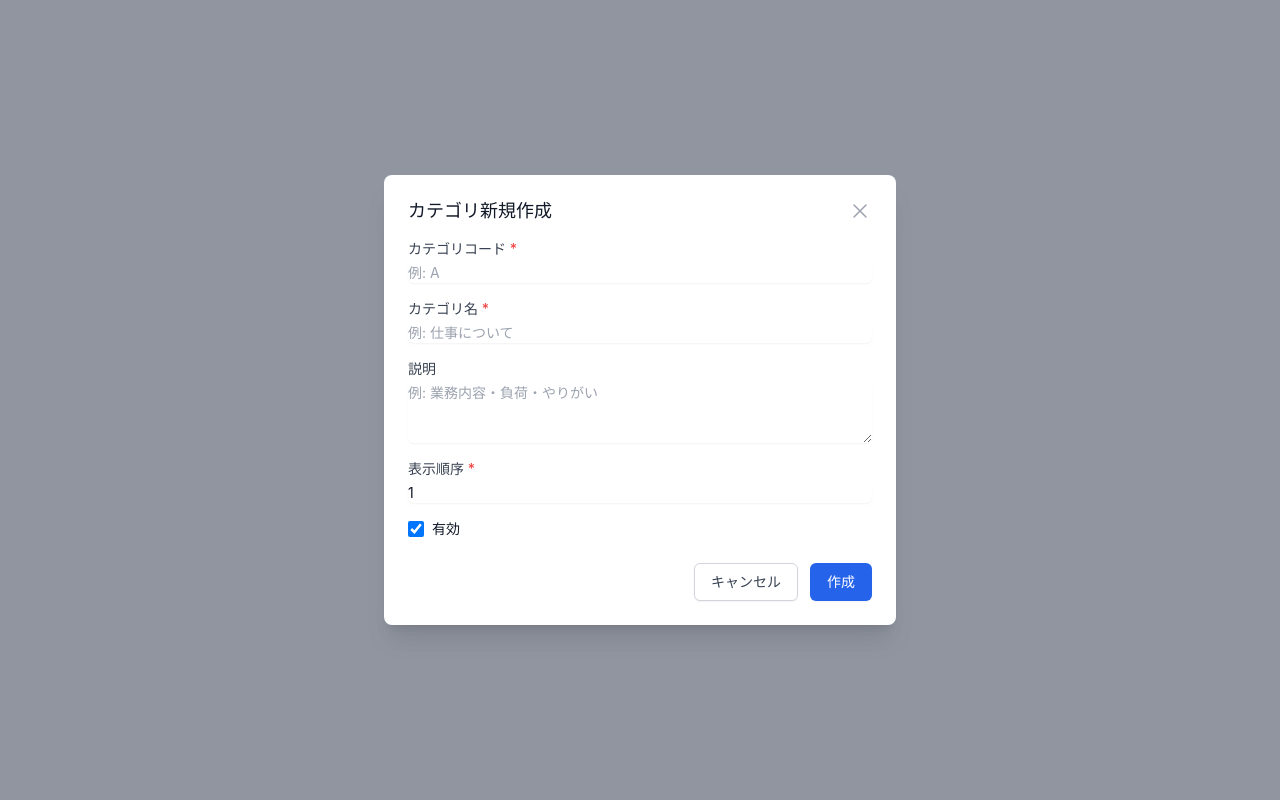
Test: CategoryFormModal › バリデーション › カテゴリコードが4文字以上の場合、エラーメッセージを表示する
The image size is (1280, 800).
In the field labelled "カテゴリコード *": (640, 273) [408, 263, 872, 283], type "ABCD"
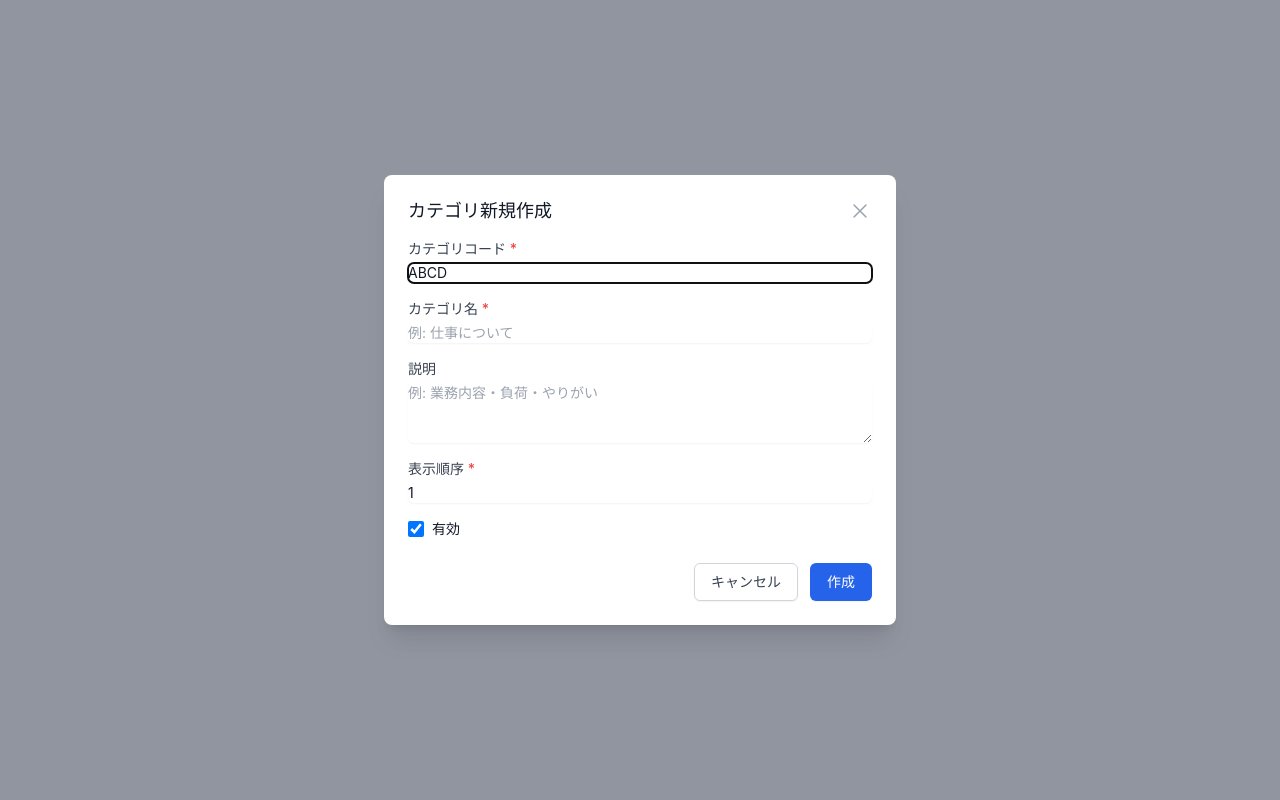
Click the button "作成": (841, 582) [810, 563, 872, 601]
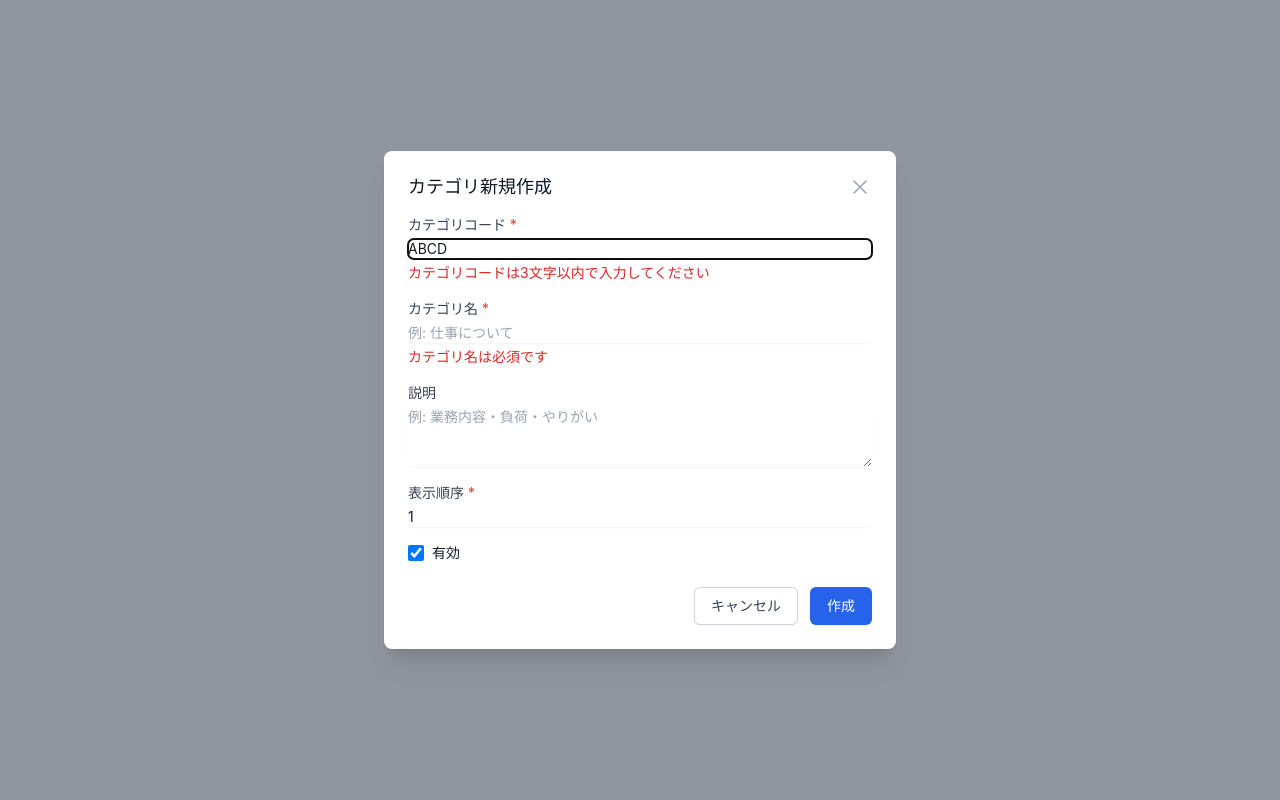
expect the text "カテゴリコードは3文字以内で入力してください" is shown: met, box [408, 264, 710, 281]
